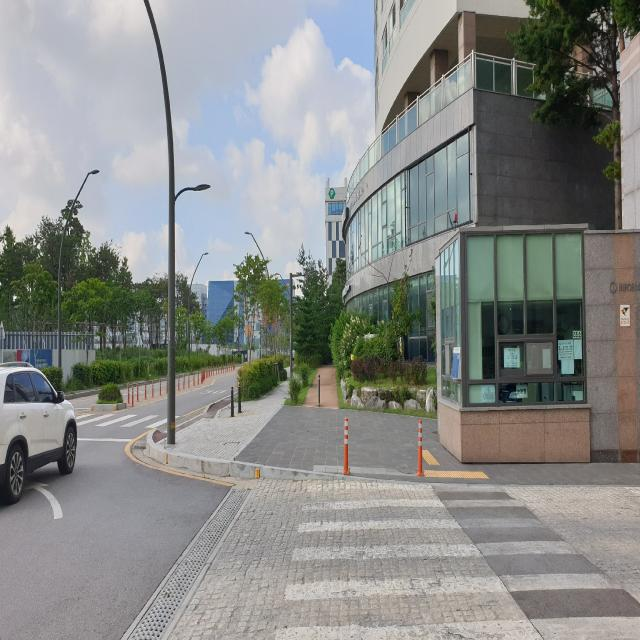횡단보도: (272, 481, 640, 640)
